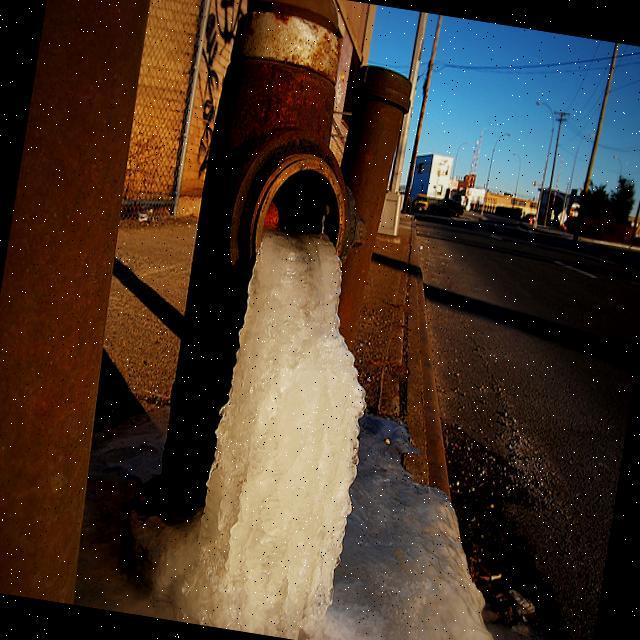fire_hydrant: (109, 0, 413, 640)
